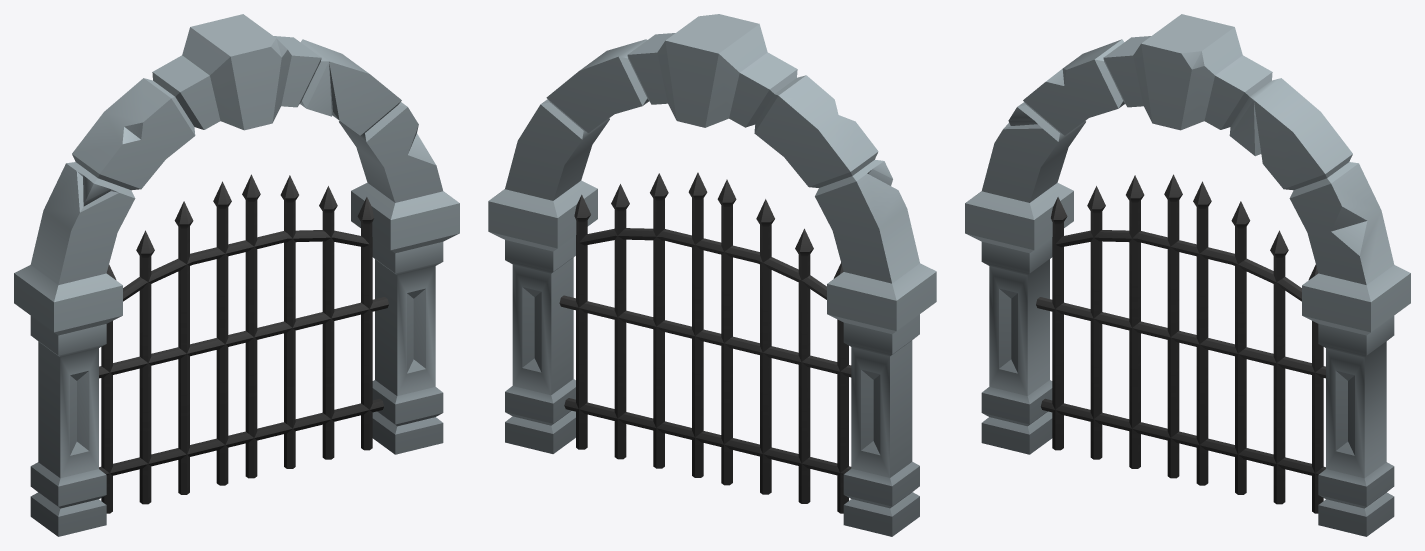
File: Arch Gate.glb
3 views of the same model, side by side, from view 1: azimuth 30°, elevation 25°; view 2: azimuth 150°, elevation 25°; view 3: azimuth 330°, elevation 25° (orthographic).
Parts seen in each view (by area): view 1: arch_gate, arch_gate_left, arch_gate_right; view 2: arch_gate, arch_gate_left, arch_gate_right; view 3: arch_gate, arch_gate_right, arch_gate_left.
Part boxes in pixels (x1=…): arch_gate: x1=14, y1=14, x2=459, y2=536; arch_gate_left: x1=236, y1=174, x2=388, y2=478; arch_gate_right: x1=99, y1=181, x2=239, y2=513; arch_gate: x1=488, y1=14, x2=936, y2=536; arch_gate_left: x1=559, y1=172, x2=713, y2=477; arch_gate_right: x1=709, y1=179, x2=851, y2=513; arch_gate: x1=965, y1=14, x2=1410, y2=536; arch_gate_right: x1=1036, y1=174, x2=1188, y2=478; arch_gate_left: x1=1185, y1=181, x2=1325, y2=513.
Size of the model in its own units: 4.22 by 4.41 by 0.7699.
Materials: 1 (1 with a texture image).
